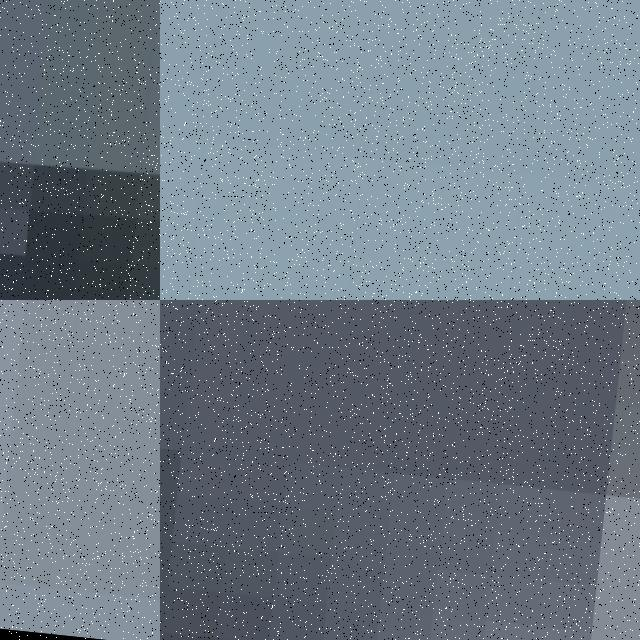drone: (0, 0, 160, 300)
